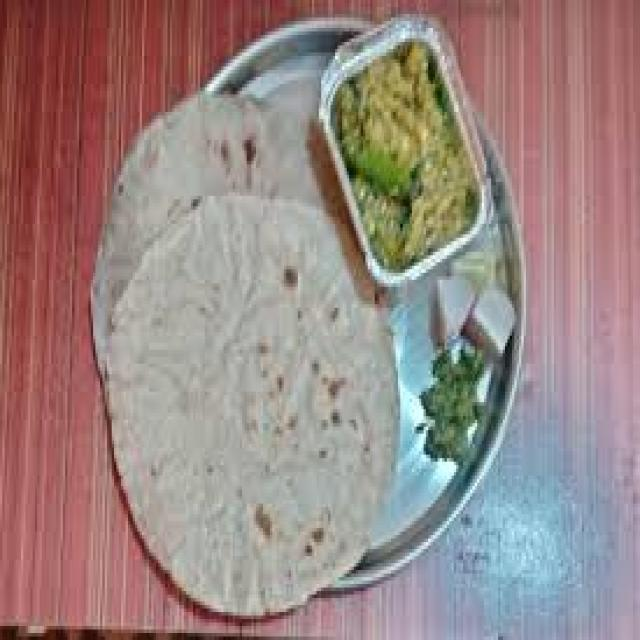RICE BHAKRI: (93, 80, 417, 612), (107, 196, 396, 612)
